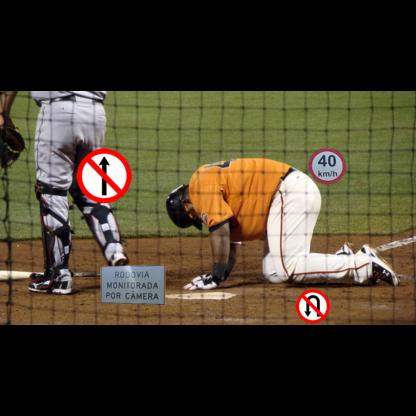I-E: (100, 264, 165, 305)
R-19: (308, 148, 346, 184)
R-3: (76, 148, 132, 203)
R-5a: (296, 289, 330, 323)
